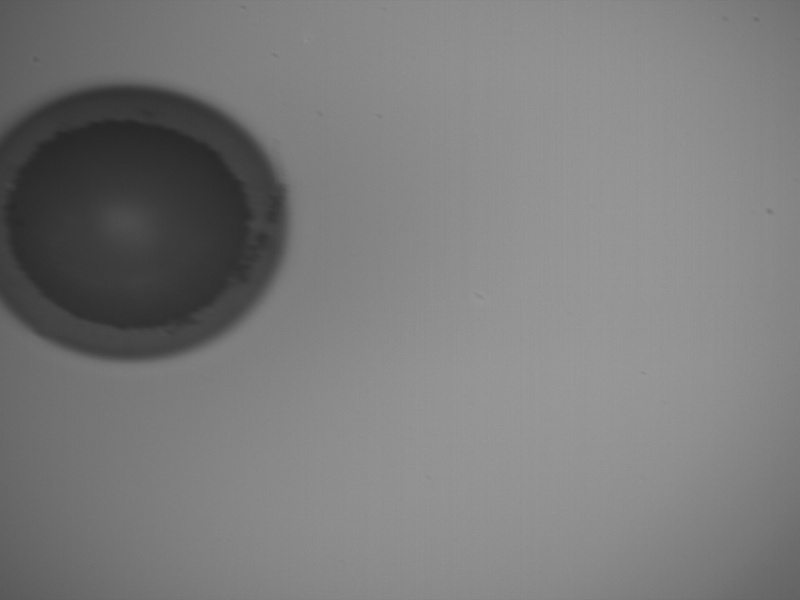bead: (1, 80, 288, 363)
